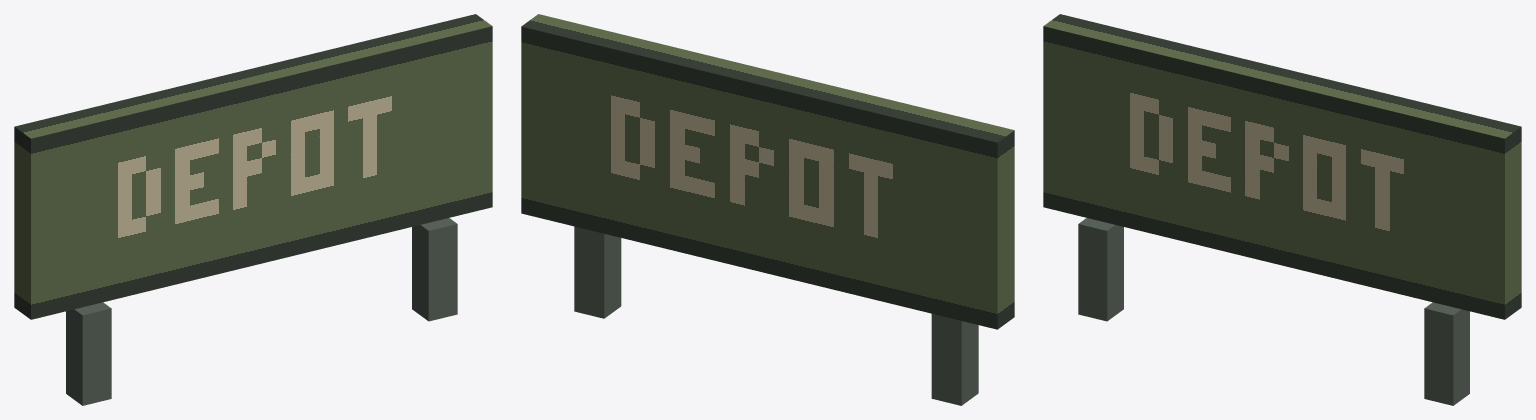
The model's file is sign_warehouse.gltf.
3 renders of one model, left to right at view 1: azimuth 30°, elevation 25°; view 2: azimuth 150°, elevation 25°; view 3: azimuth 330°, elevation 25°, orthographic. The views are drawn at different scales.
Visible parts, largest first — view 1: signboard, support (×2); view 2: signboard, support (×2); view 3: signboard, support (×2).
Part boxes in pixels (<box>): signboard: <box>14,14,492,319</box>; support (×2): <box>66,218,457,405</box>; signboard: <box>521,14,1014,329</box>; support (×2): <box>574,226,978,405</box>; signboard: <box>1043,14,1521,319</box>; support (×2): <box>1078,218,1469,405</box>.
Bounding box in the file's own units: 2 × 1.12 × 0.1875.
2 materials, 2 textured.
